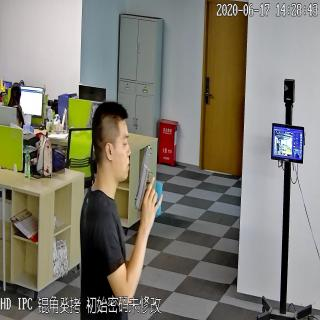gun: (134, 144, 160, 215)
